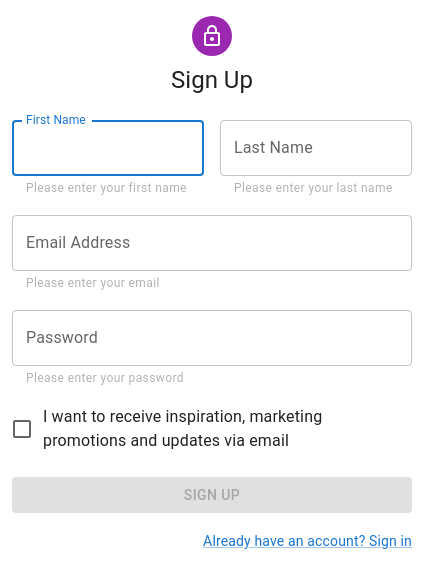
Test: Page SignUp › should check email validation
Expected: the text "Please enter a valid email" is not shown
In the field with test id "email-input": (212, 243) [12,215,412,271], type "email"
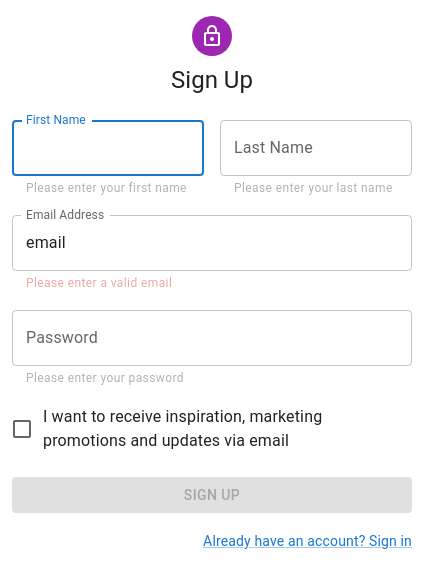
Expected: the text "Please enter a valid email" is shown, [26,276,172,290]
Replace the text in the field with test id "email-input" with "email@gmail.com": (212, 243) [12,215,412,271]
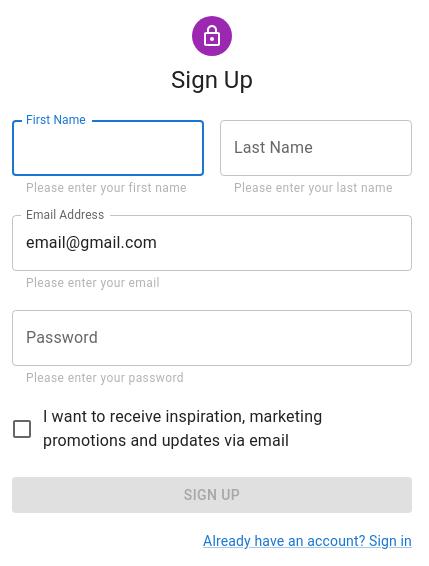
Expected: the text "Please enter a valid email" is gone
